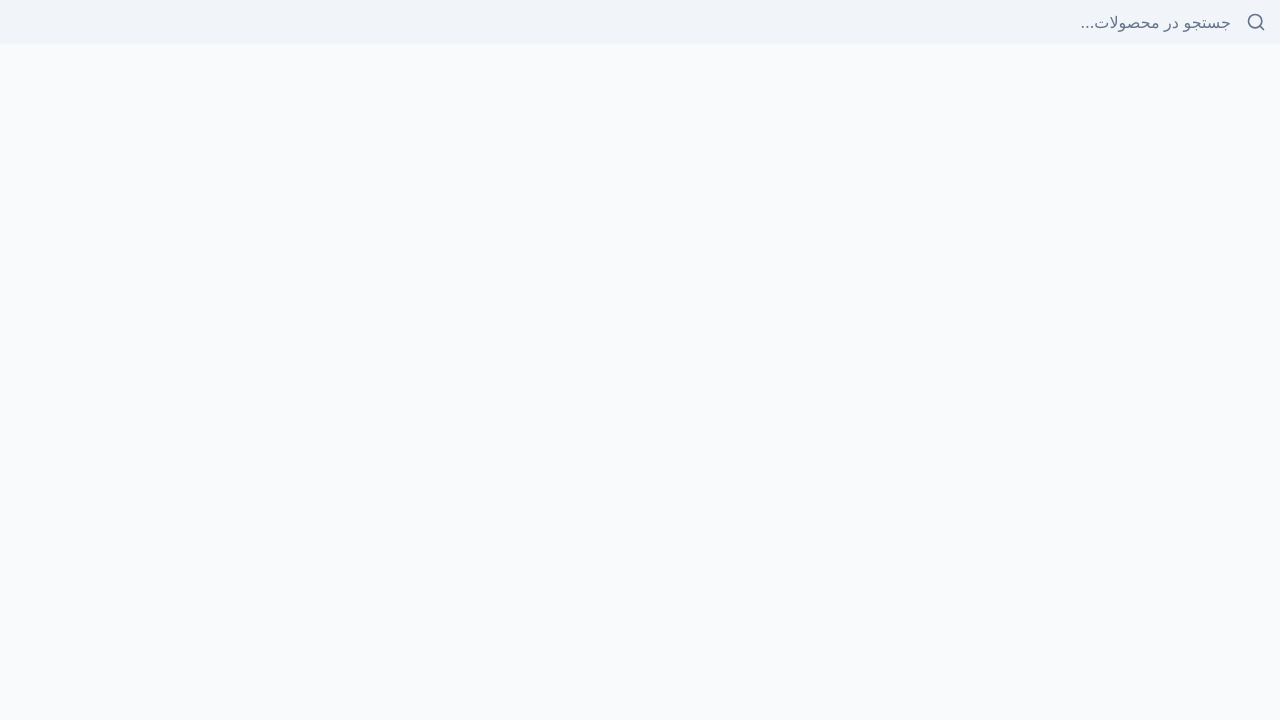
it: the header search on phones › clears the field on Escape first, then closes
Later steps or results of the test are not shown.
Click the search field labelled "جستجو".
click(640, 22)  # box [0,0,1279,44]
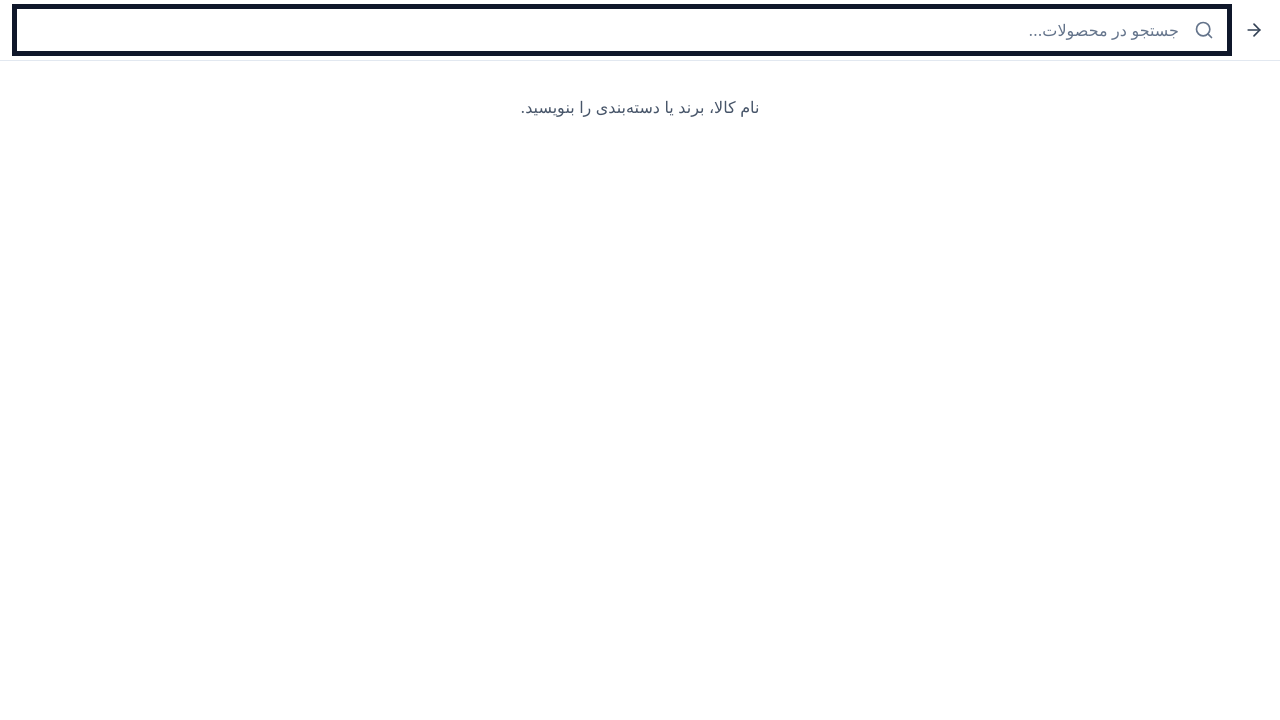
Type "هد" into the dropdown.
click(622, 30); type("هد")  # box [16,8,1228,52]
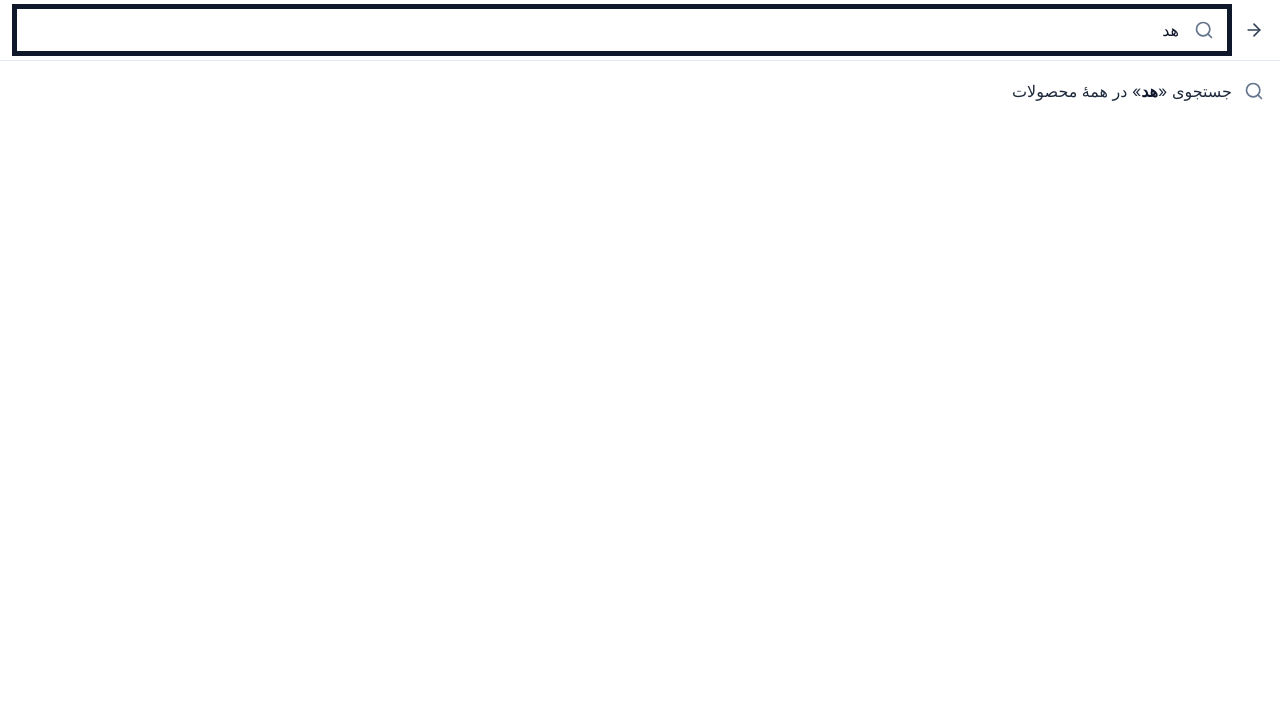
Press Escape
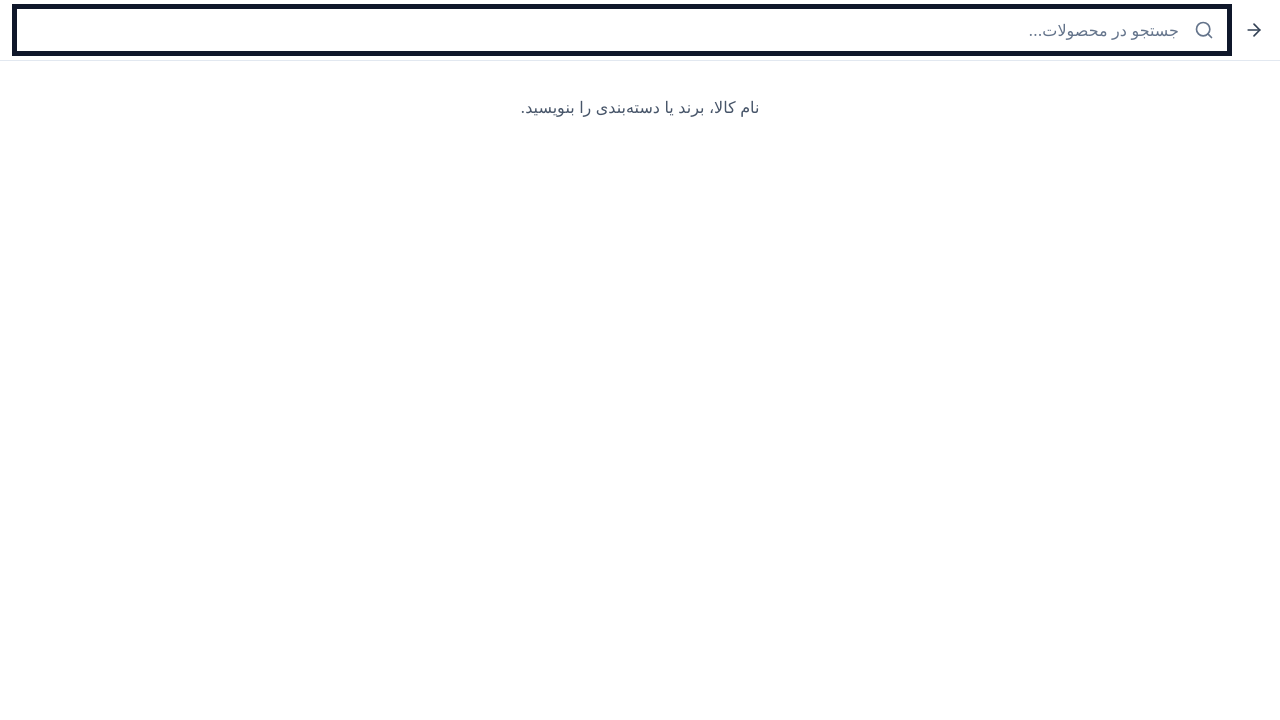
Expected: the dialog named "جستجو" is shown
Expected: the dropdown is empty, [16,8,1228,52]
